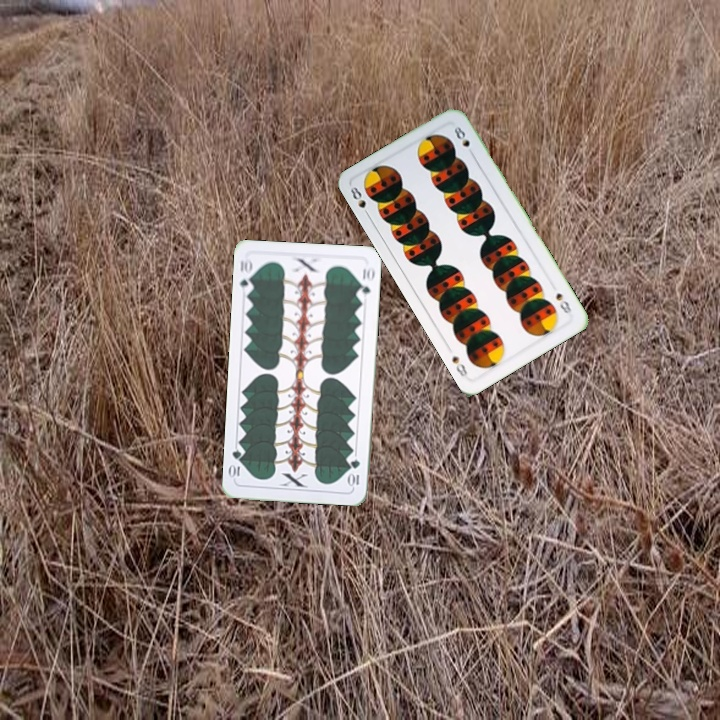G10: (236, 254, 256, 295), (346, 455, 362, 489)
S8: (346, 182, 373, 220), (552, 288, 574, 316)
